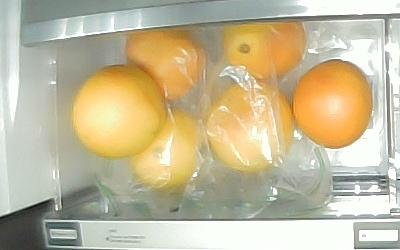grapefruit: (73, 65, 166, 158), (292, 59, 373, 149)
grapefruit_vinyl: (205, 81, 293, 172), (131, 108, 202, 193), (125, 28, 204, 100), (224, 20, 307, 81)
